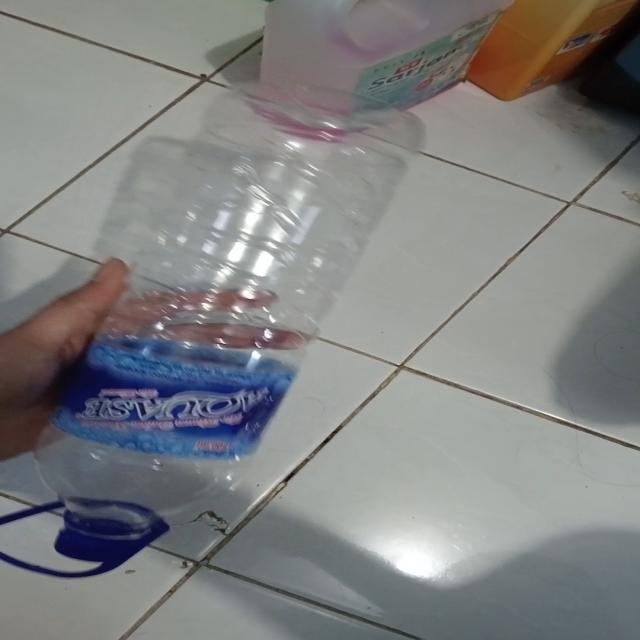Botol bekas: (21, 110, 415, 597)
